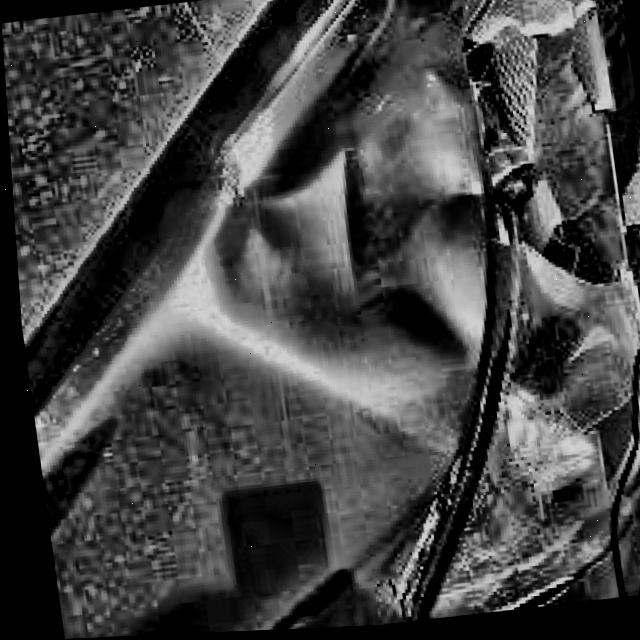bumper_dent: (190, 87, 499, 406)
head_lamp: (451, 0, 640, 416)
